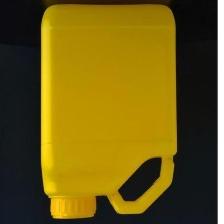insecticide: (37, 0, 178, 221)
